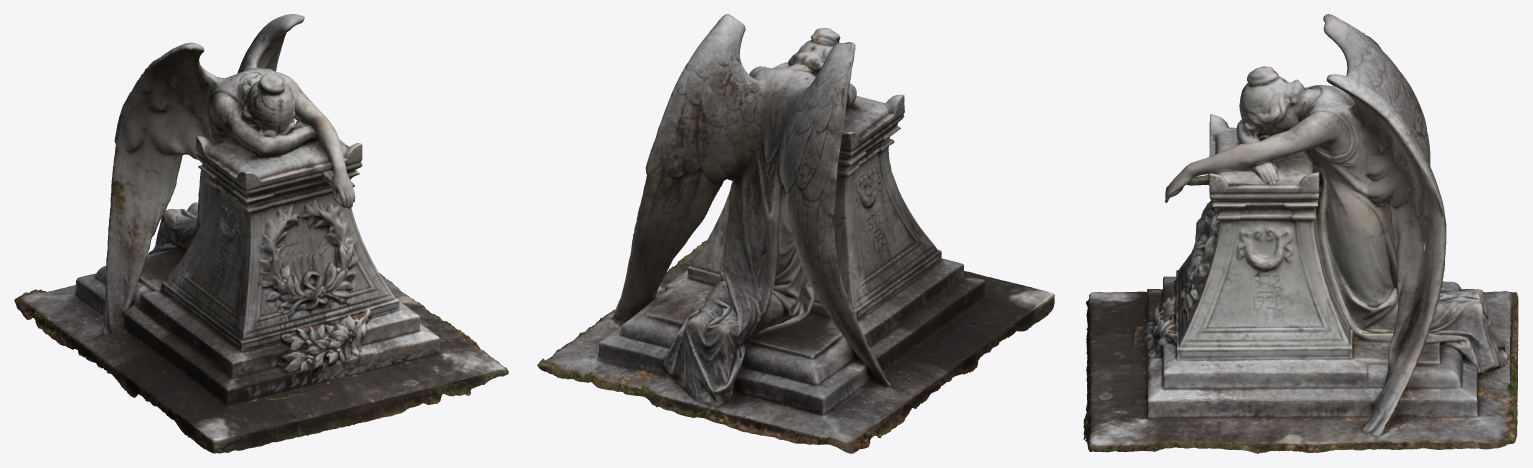
Rendered from frank.glb.
The picture shows the model from 3 angles, left to right: view 1: azimuth 30°, elevation 25°; view 2: azimuth 150°, elevation 25°; view 3: azimuth 270°, elevation 25°; orthographic projection. The views are drawn at different scales.
Parts seen in each view (by area): view 1: Franks.C352.SC130k.DC32270k.M2064k; view 2: Franks.C352.SC130k.DC32270k.M2064k; view 3: Franks.C352.SC130k.DC32270k.M2064k.
Boxes of the visible parts, <box> form: Franks.C352.SC130k.DC32270k.M2064k: <box>14,14,508,453</box>; Franks.C352.SC130k.DC32270k.M2064k: <box>537,14,1054,453</box>; Franks.C352.SC130k.DC32270k.M2064k: <box>1083,14,1518,453</box>.
Bounding box in the file's own units: 1.7 × 1.68 × 1.95.
1 material, 1 textured.
